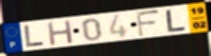0: (80, 17, 105, 41)
4: (109, 13, 131, 40)
F: (135, 9, 162, 38)
H: (46, 19, 75, 47)
L: (23, 24, 46, 49), (165, 9, 188, 33)
